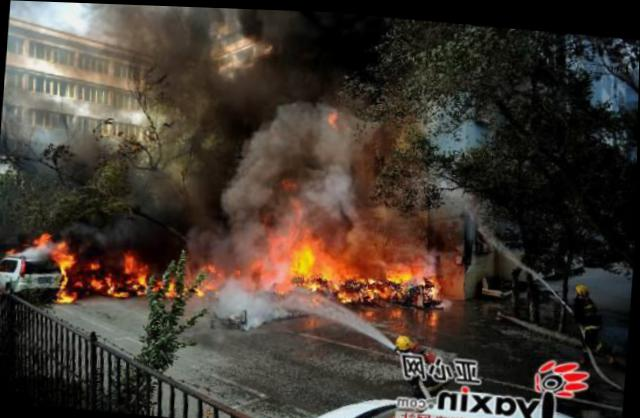fire: (290, 231, 324, 275), (391, 255, 431, 282), (53, 238, 79, 270), (320, 257, 356, 280), (93, 272, 119, 290), (56, 289, 80, 303), (39, 228, 53, 249), (138, 262, 150, 285), (106, 285, 131, 296), (126, 249, 138, 270)
